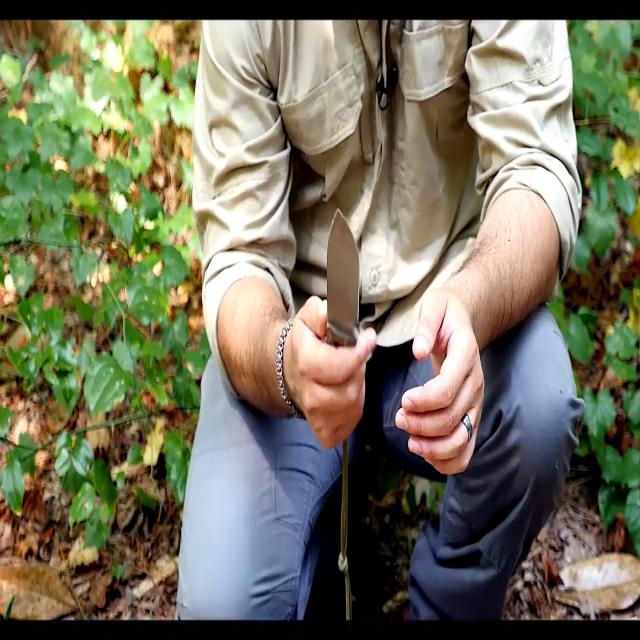knife: (326, 209, 364, 352)
